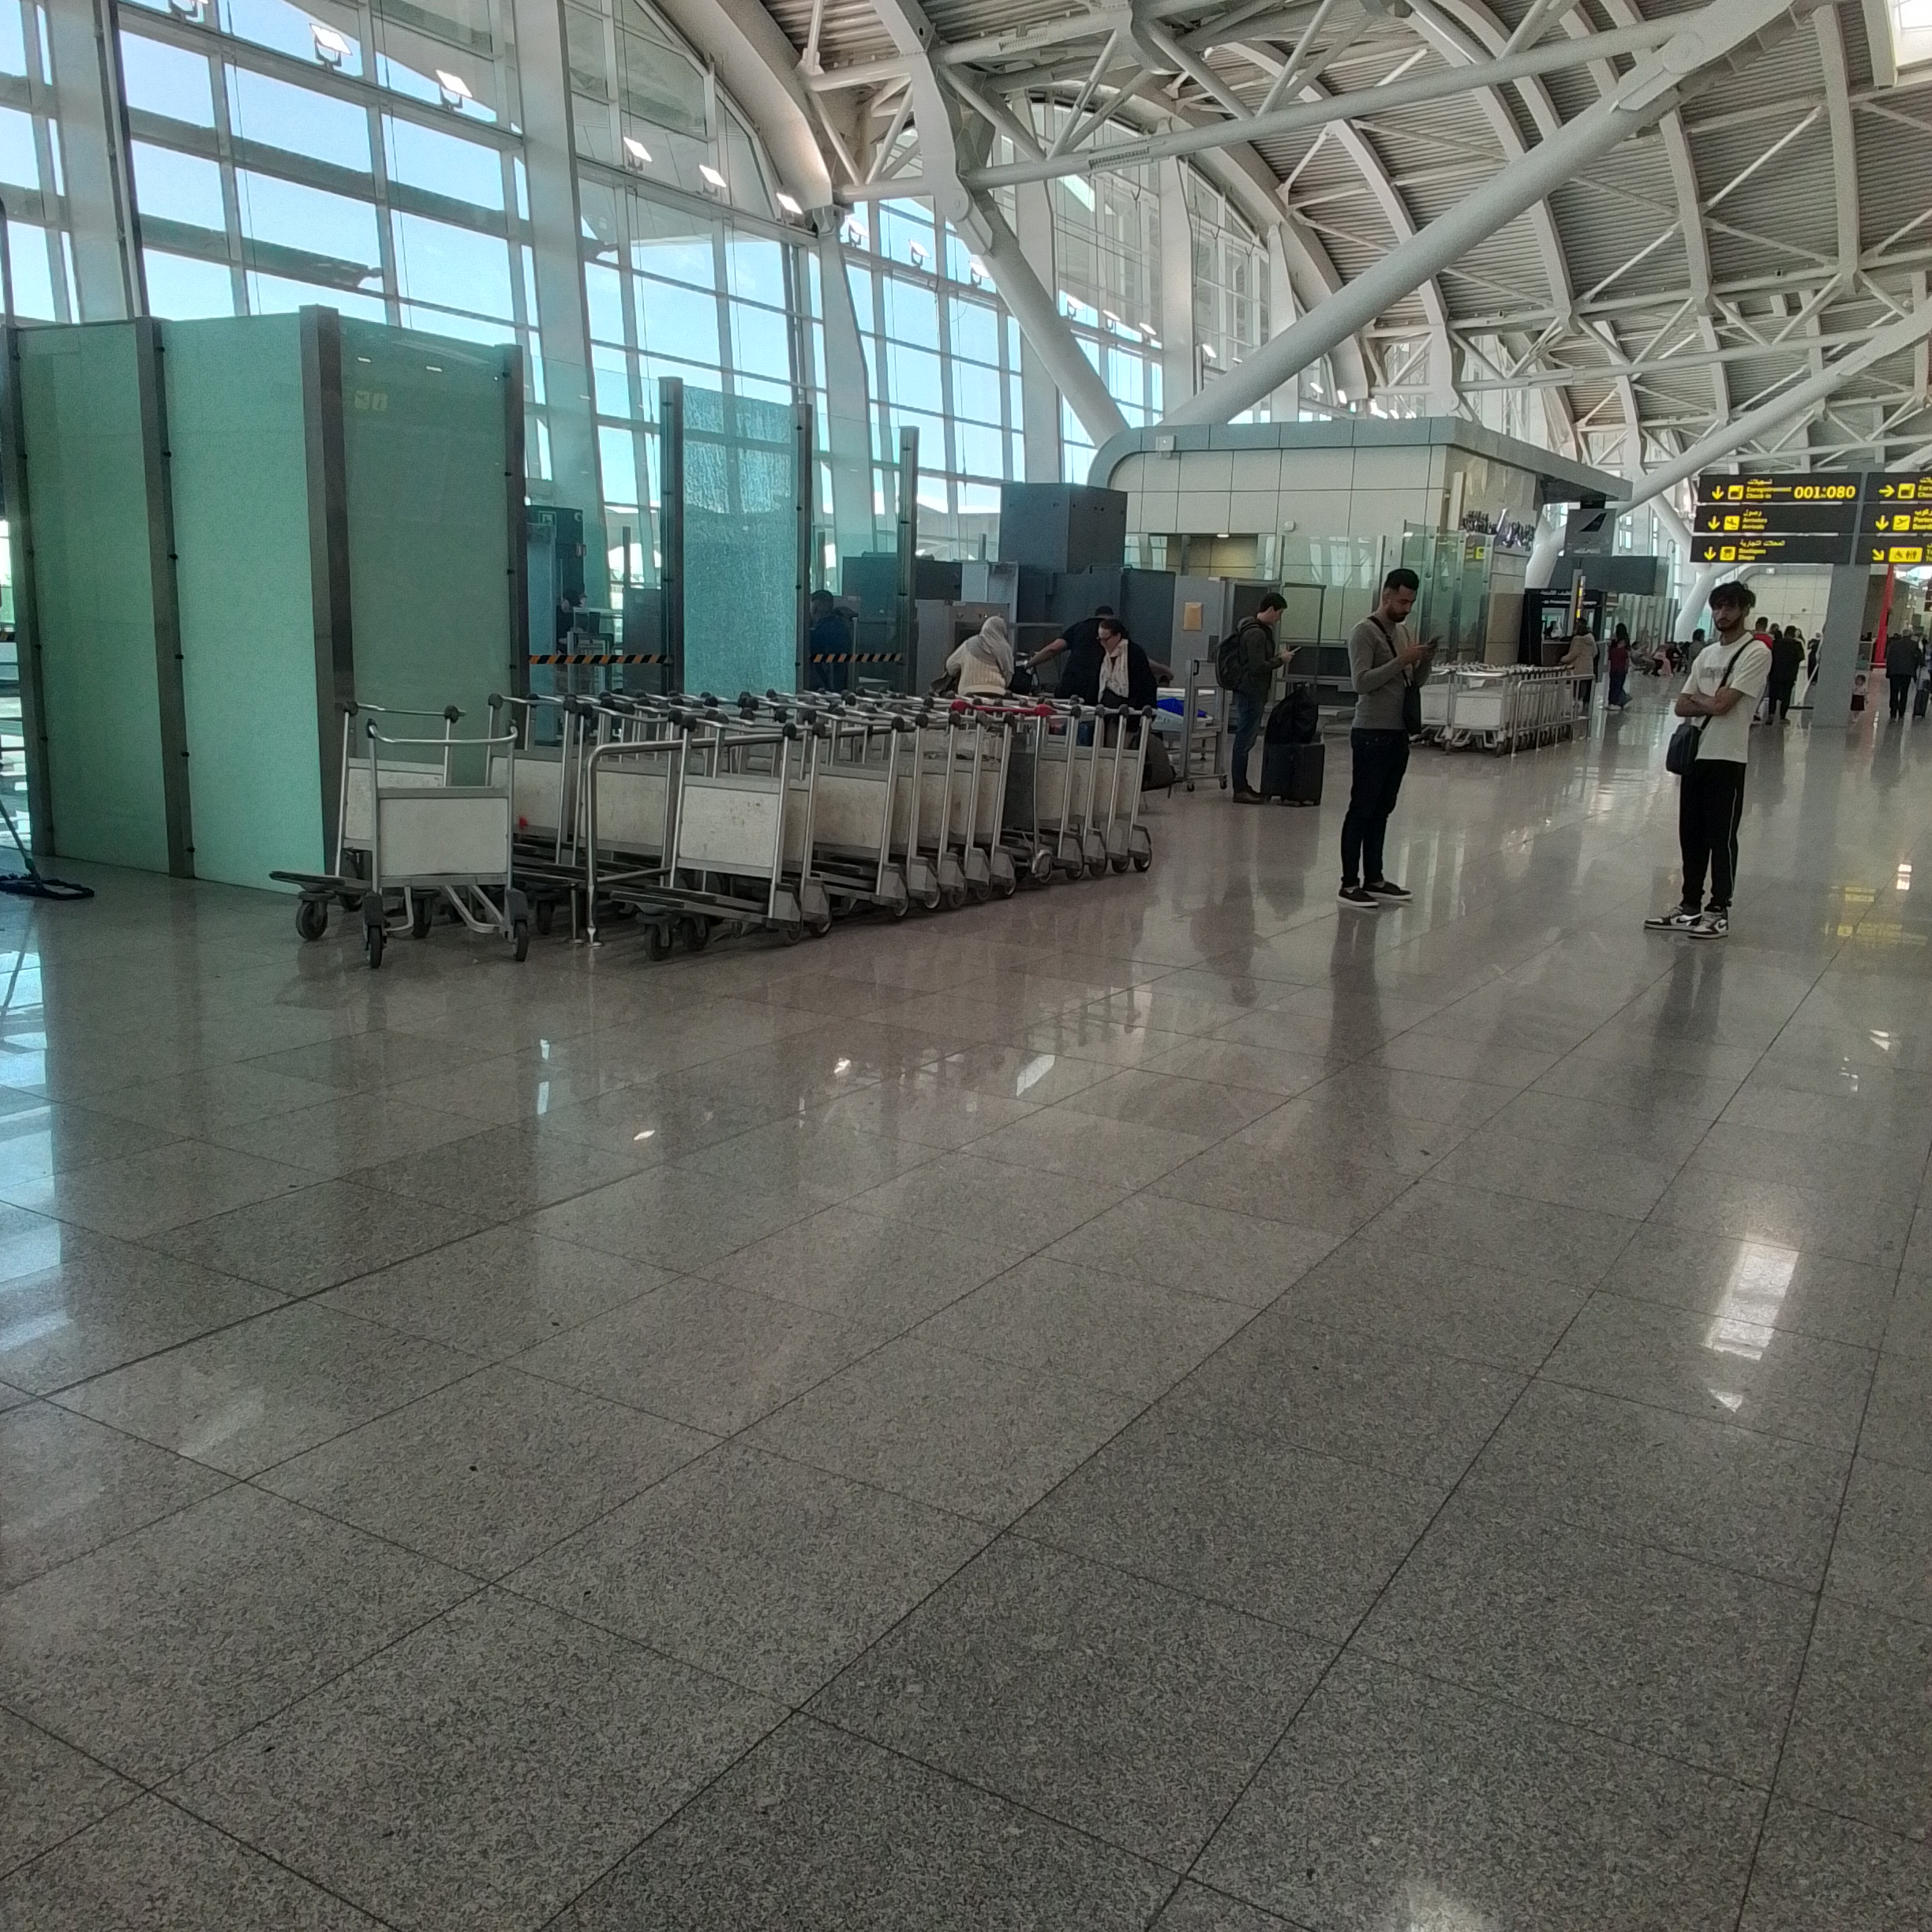airport-trolley: (626, 709, 789, 962), (301, 692, 465, 939), (368, 722, 522, 980), (476, 688, 603, 943), (564, 697, 685, 941), (798, 695, 911, 924), (743, 702, 830, 961), (908, 692, 975, 908), (970, 692, 1028, 909), (1008, 686, 1067, 902), (881, 685, 934, 904), (1054, 695, 1113, 893), (1108, 686, 1161, 892)
